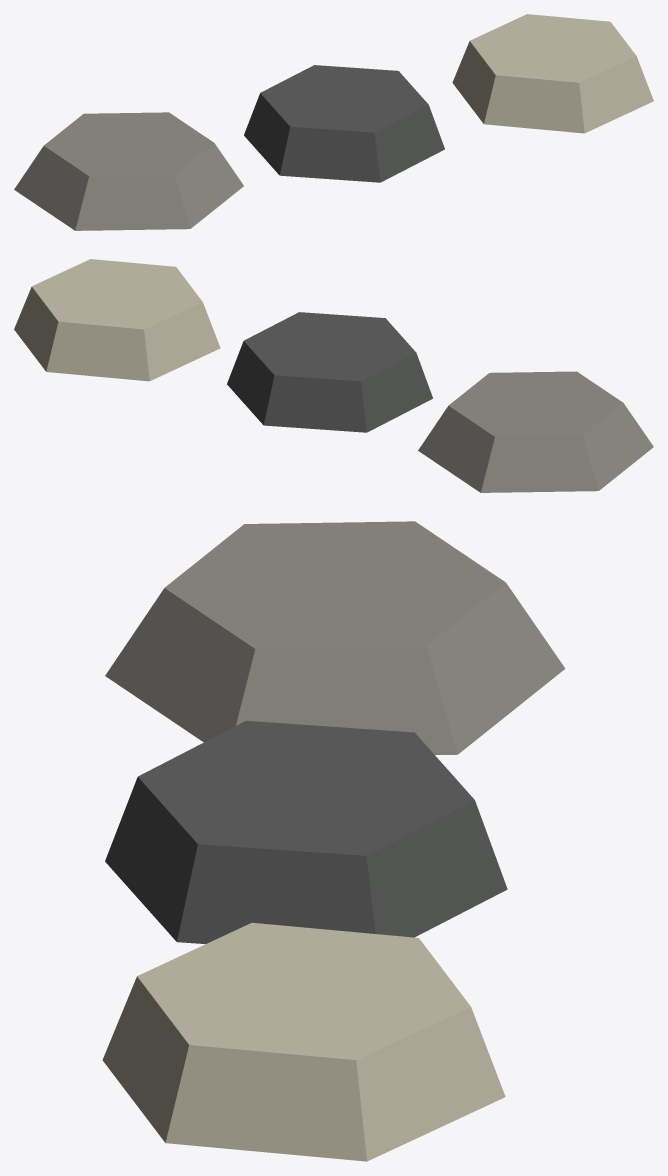
Rendered from rock_6.glb.
3 renders of one model, top to bottom at view 1: azimuth 30°, elevation 25°; view 2: azimuth 150°, elevation 25°; view 3: azimuth 270°, elevation 25°, orthographic. The views are drawn at different scales.
Visible parts, largest first — view 1: rock_6; view 2: rock_6; view 3: rock_6.
Part boxes in pixels (x1=…): rock_6: x1=14, y1=14, x2=653, y2=230; rock_6: x1=14, y1=259, x2=653, y2=492; rock_6: x1=102, y1=521, x2=565, y2=1161.
Size of what is drawn, in the model's own units: 2.55 by 0.18 by 0.867.
